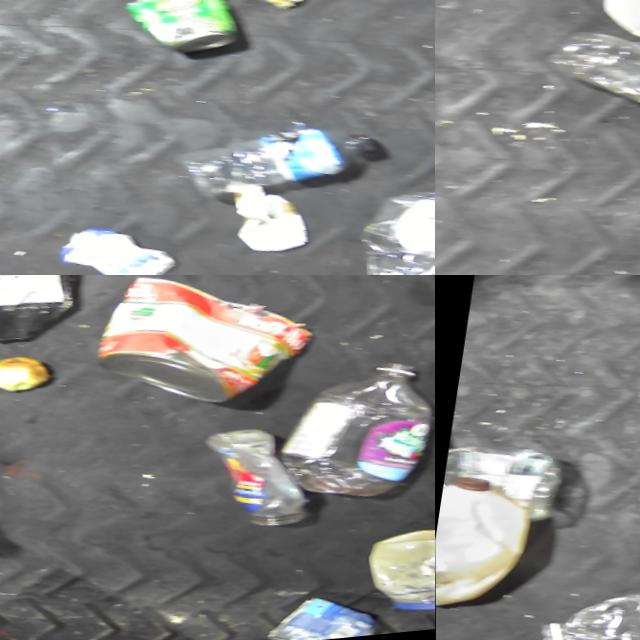can: (89, 275, 320, 434), (113, 0, 244, 73)
milk_jug: (435, 468, 536, 621)
plastic_bottle: (271, 353, 435, 523), (169, 110, 386, 234), (532, 16, 640, 173), (190, 423, 319, 546), (531, 561, 640, 640), (347, 186, 435, 275)
